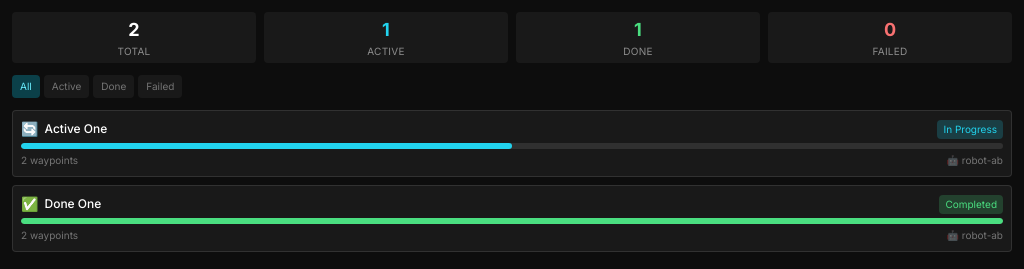
it: MissionDashboardModule › filters missions by status
# Click "Done" filter button
Click the button "Done" at (114, 86), box left=93, top=75, right=134, bottom=98
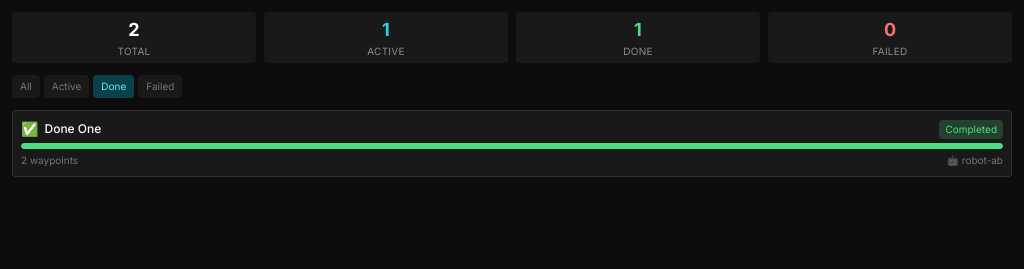
Expected: the text "Done One" is shown, left=44, top=121, right=101, bottom=137
Result: the text "Active One" is gone
